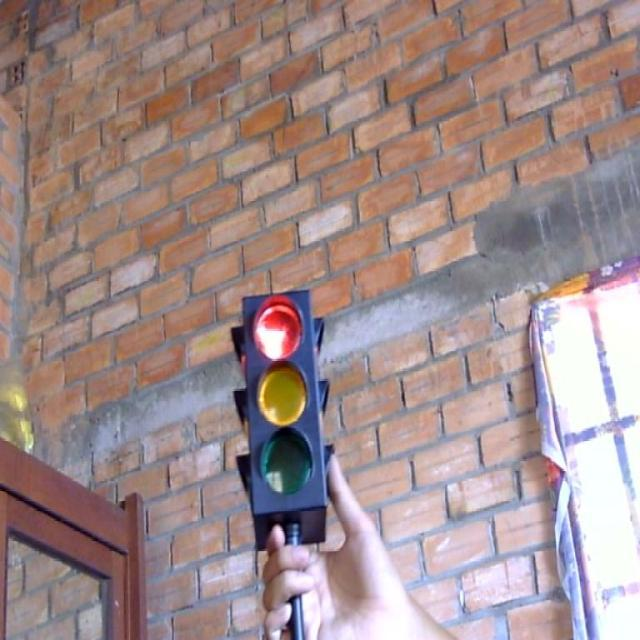red light: (249, 291, 312, 368)
